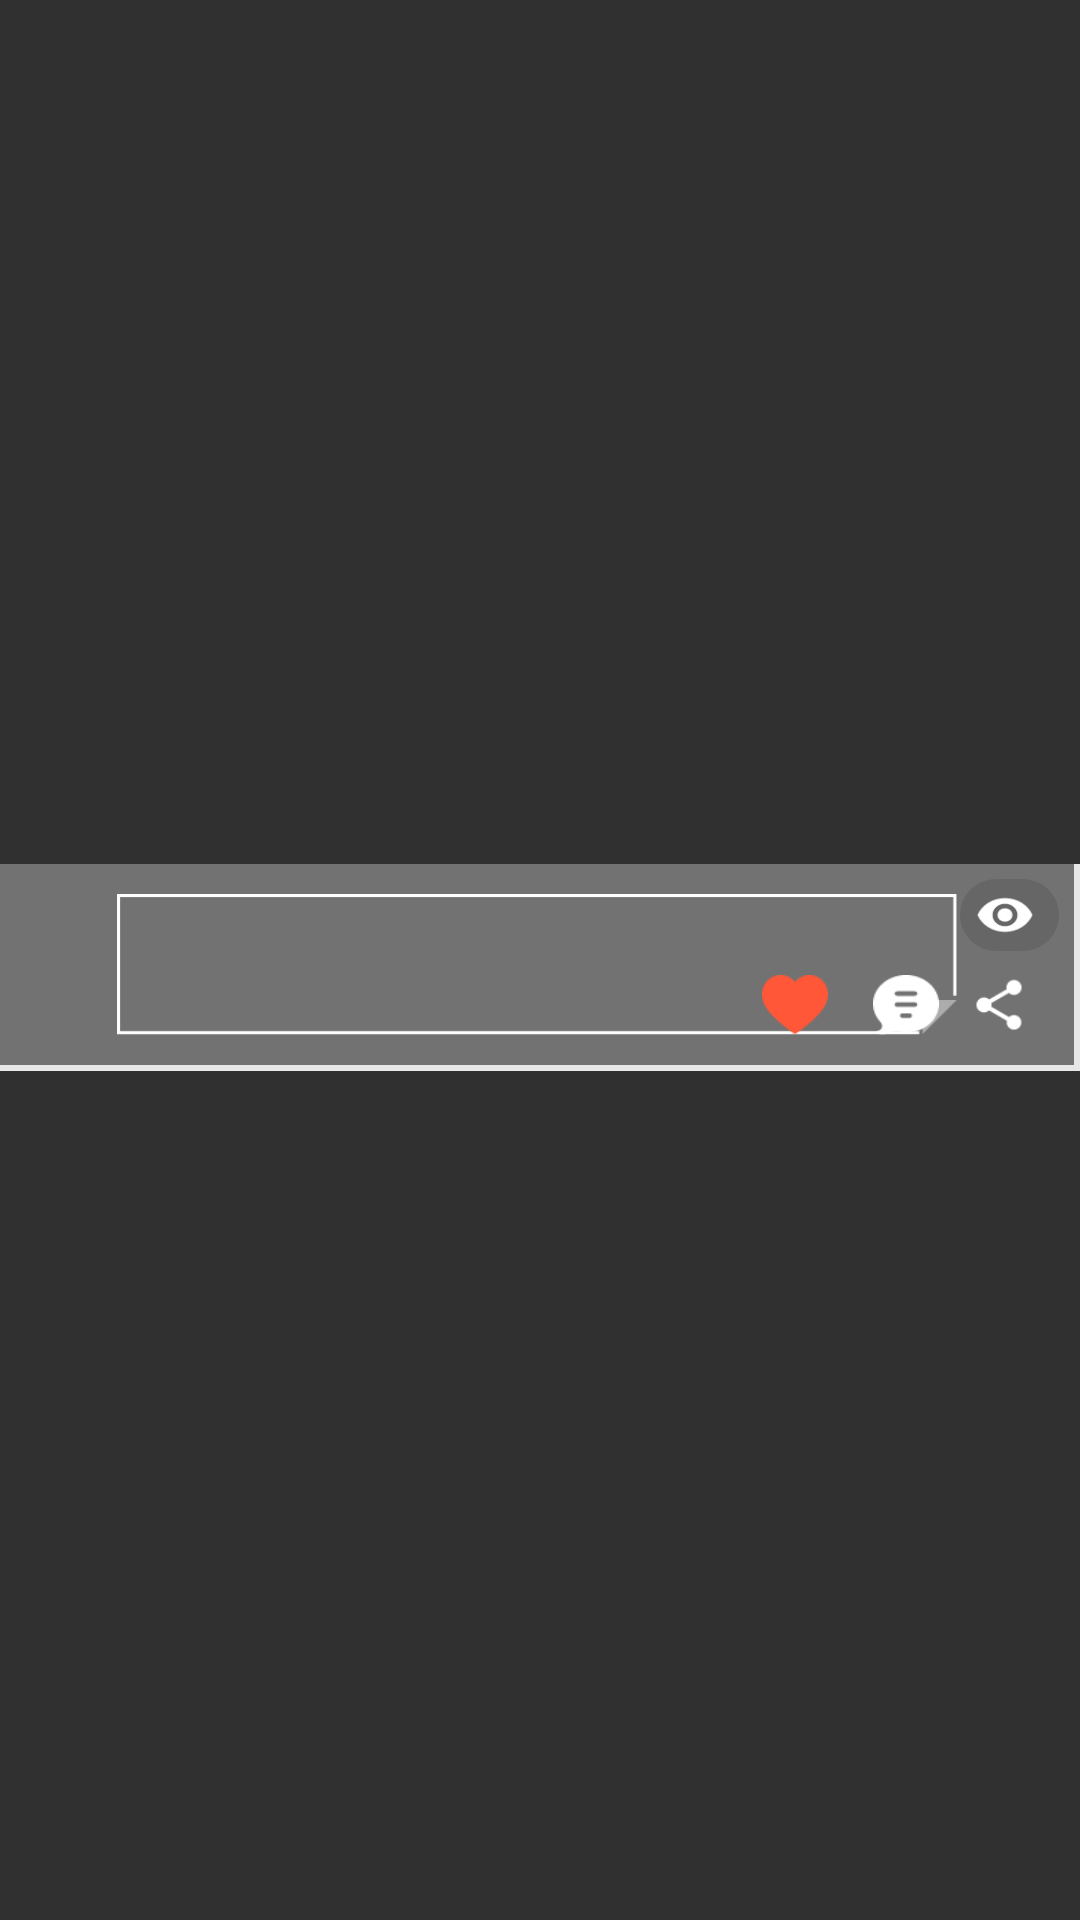

Icons on this 1080px x 1920px Android screen, each with its box as (x1, y1, x2, y2):
body connect: (976, 979, 1022, 1030)
body eye: (977, 898, 1033, 932)
body like on: (762, 975, 828, 1035)
body message: (873, 975, 939, 1035)
